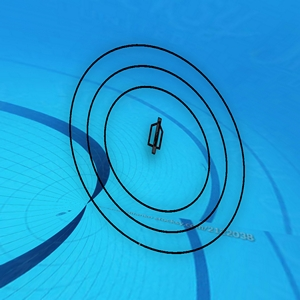circle: (69, 44, 242, 253)
submarine: (148, 119, 163, 153)
